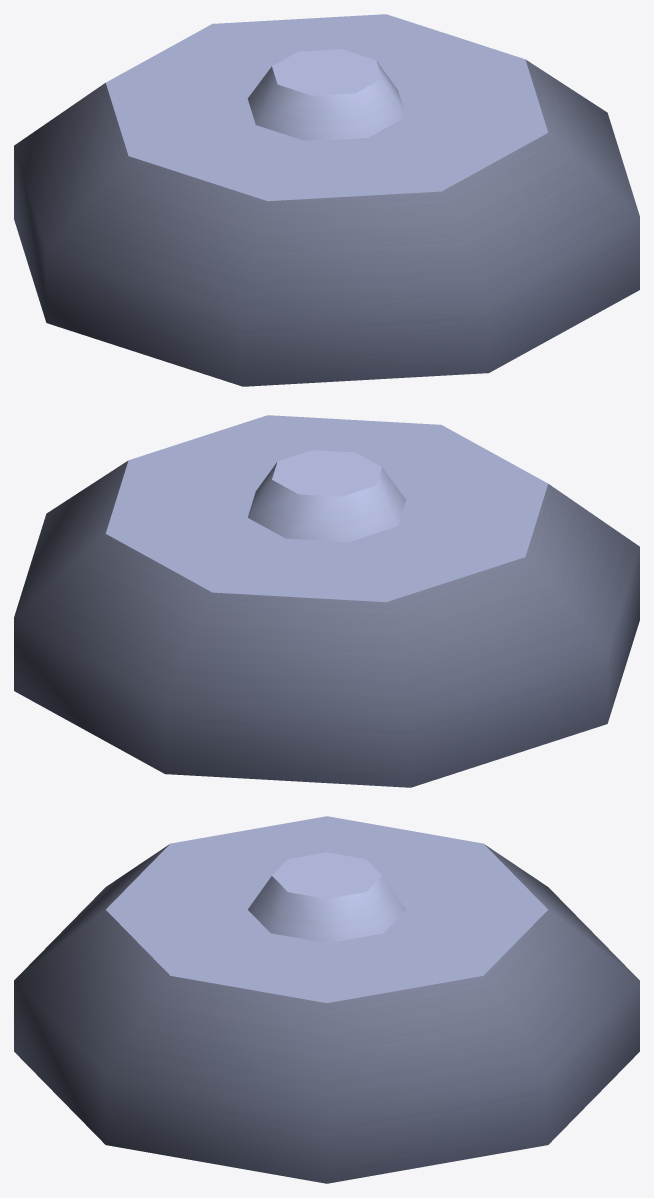
The model's file is weapon-shield.fbx.
The picture shows the model from 3 angles, top to bottom: view 1: azimuth 30°, elevation 25°; view 2: azimuth 150°, elevation 25°; view 3: azimuth 270°, elevation 25°; orthographic projection. The views are drawn at different scales.
Visible parts, largest first — view 1: weapon-shield; view 2: weapon-shield; view 3: weapon-shield.
Part boxes in pixels (<box>): weapon-shield: <box>14,14,639,386</box>; weapon-shield: <box>14,415,639,787</box>; weapon-shield: <box>14,816,639,1183</box>.
Size of the model in its own units: 40 by 12.4 by 40.
